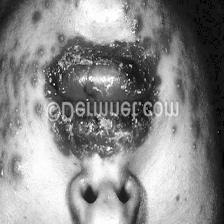Toxin: (0, 48, 48, 173), (63, 29, 153, 67), (45, 122, 153, 152), (33, 0, 157, 26), (76, 75, 122, 98), (130, 66, 160, 99), (185, 86, 201, 138), (48, 64, 66, 95)
